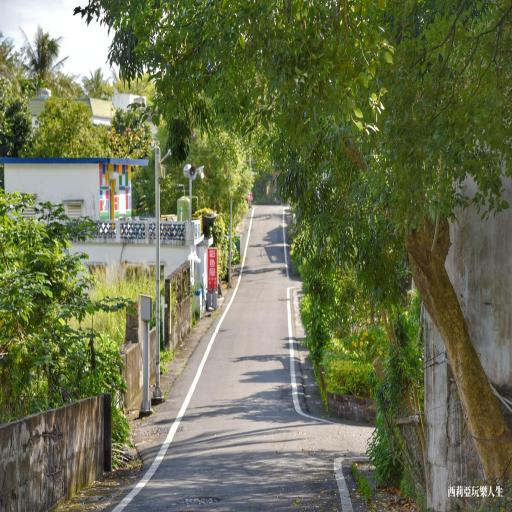whiteline: (105, 203, 258, 512), (284, 280, 338, 440), (330, 447, 376, 512), (280, 204, 300, 282)
